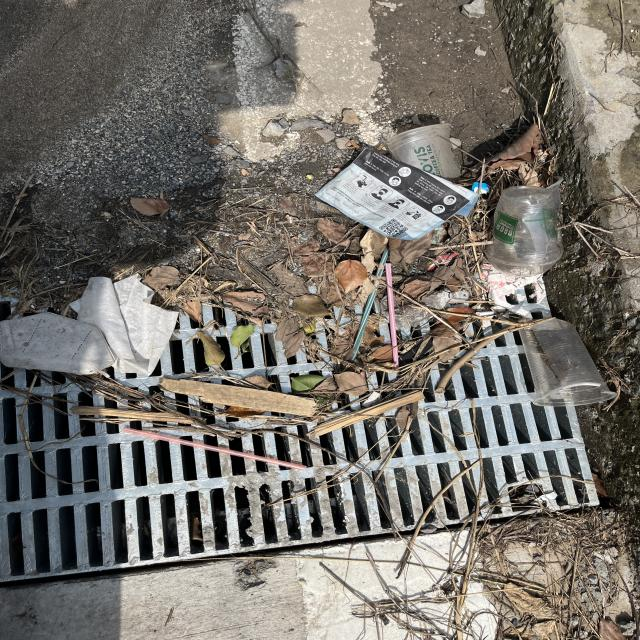drinking straw: (121, 426, 308, 472), (349, 246, 390, 364), (384, 263, 400, 371)
mask: (0, 310, 117, 376)
napkin: (68, 274, 182, 381)
paper: (314, 148, 481, 241)
plastic glass: (518, 318, 618, 407), (484, 185, 564, 278), (387, 123, 462, 180)
